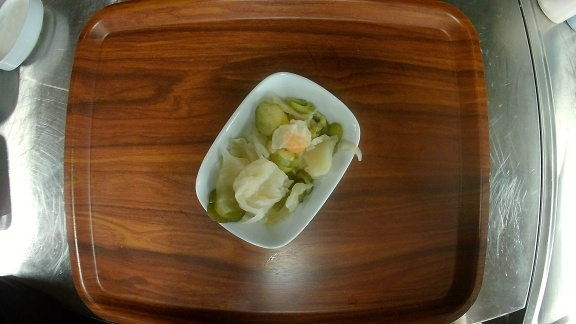tursu: (196, 71, 361, 249)
